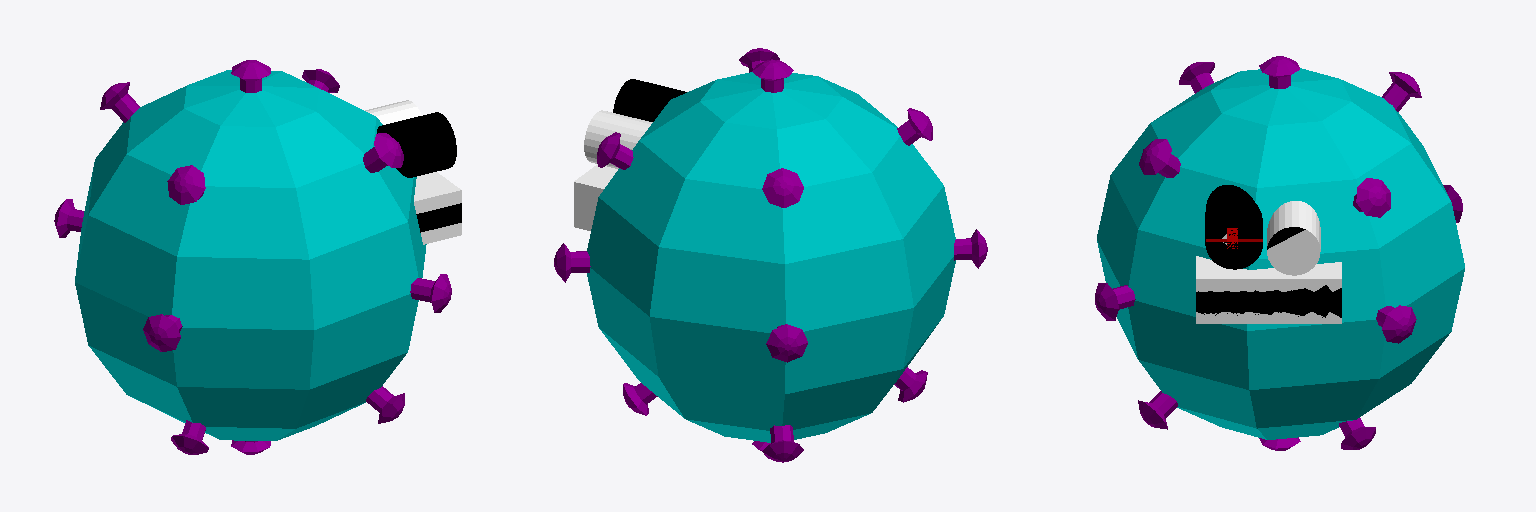
Rendered from sida.obj.
The picture shows the model from 3 angles: view 1: azimuth 30°, elevation 25°; view 2: azimuth 150°, elevation 25°; view 3: azimuth 270°, elevation 25°; orthographic projection.
Visible parts, largest first — view 1: Mesh2 Sphere cc70_6b14_fc25_aaa9_1 Model, Mesh17 Cyborg_Face1 Model, Mesh18 Cyborg_Face1 Model, Mesh15 Sphere cc70_6b14_fc25_aaa9_1 Model, Mesh7 Sphere cc70_6b14_fc25_aaa9_1 Model, Mesh9 Sphere cc70_6b14_fc25_aaa9_1 Model, Mesh4 Sphere cc70_6b14_fc25_aaa9_1 Model, Mesh8 Sphere cc70_6b14_fc25_aaa9_1 Model, Mesh10 Sphere cc70_6b14_fc25_aaa9_1 Model, Mesh3 Sphere cc70_6b14_fc25_aaa9_1 Model, Mesh14 Sphere cc70_6b14_fc25_aaa9_1 Model, Mesh16 Cyborg_Face1 Model (+2 smaller); view 2: Mesh2 Sphere cc70_6b14_fc25_aaa9_1 Model, Mesh17 Cyborg_Face1 Model, Mesh16 Cyborg_Face1 Model, Mesh18 Cyborg_Face1 Model, Mesh8 Sphere cc70_6b14_fc25_aaa9_1 Model, Mesh1 Sphere cc70_6b14_fc25_aaa9_1 Model, Mesh11 Sphere cc70_6b14_fc25_aaa9_1 Model, Mesh12 Sphere cc70_6b14_fc25_aaa9_1 Model, Mesh3 Sphere cc70_6b14_fc25_aaa9_1 Model, Mesh6 Sphere cc70_6b14_fc25_aaa9_1 Model, Mesh15 Sphere cc70_6b14_fc25_aaa9_1 Model, Mesh7 Sphere cc70_6b14_fc25_aaa9_1 Model (+2 smaller); view 3: Mesh2 Sphere cc70_6b14_fc25_aaa9_1 Model, Mesh18 Cyborg_Face1 Model, Mesh17 Cyborg_Face1 Model, Mesh16 Cyborg_Face1 Model, Mesh9 Sphere cc70_6b14_fc25_aaa9_1 Model, Mesh12 Sphere cc70_6b14_fc25_aaa9_1 Model, Mesh6 Sphere cc70_6b14_fc25_aaa9_1 Model, Mesh4 Sphere cc70_6b14_fc25_aaa9_1 Model, Mesh10 Sphere cc70_6b14_fc25_aaa9_1 Model, Mesh8 Sphere cc70_6b14_fc25_aaa9_1 Model, Mesh3 Sphere cc70_6b14_fc25_aaa9_1 Model, Mesh13 Sphere cc70_6b14_fc25_aaa9_1 Model (+1 smaller).
Boxes of the visible parts, box(x1,y1,x2,y2) form: Mesh2 Sphere cc70_6b14_fc25_aaa9_1 Model: box(75, 70, 426, 440); Mesh17 Cyborg_Face1 Model: box(377, 112, 456, 177); Mesh18 Cyborg_Face1 Model: box(414, 172, 461, 244); Mesh15 Sphere cc70_6b14_fc25_aaa9_1 Model: box(167, 165, 205, 204); Mesh7 Sphere cc70_6b14_fc25_aaa9_1 Model: box(143, 314, 182, 351); Mesh9 Sphere cc70_6b14_fc25_aaa9_1 Model: box(363, 133, 403, 172); Mesh4 Sphere cc70_6b14_fc25_aaa9_1 Model: box(410, 274, 451, 312); Mesh8 Sphere cc70_6b14_fc25_aaa9_1 Model: box(100, 82, 139, 122); Mesh10 Sphere cc70_6b14_fc25_aaa9_1 Model: box(366, 386, 404, 423); Mesh3 Sphere cc70_6b14_fc25_aaa9_1 Model: box(231, 60, 270, 92); Mesh14 Sphere cc70_6b14_fc25_aaa9_1 Model: box(171, 420, 208, 454); Mesh16 Cyborg_Face1 Model: box(365, 100, 421, 124); Mesh2 Sphere cc70_6b14_fc25_aaa9_1 Model: box(587, 72, 955, 442); Mesh17 Cyborg_Face1 Model: box(613, 79, 686, 121); Mesh16 Cyborg_Face1 Model: box(584, 110, 652, 168); Mesh18 Cyborg_Face1 Model: box(574, 164, 617, 230); Mesh8 Sphere cc70_6b14_fc25_aaa9_1 Model: box(762, 168, 803, 207); Mesh1 Sphere cc70_6b14_fc25_aaa9_1 Model: box(766, 324, 807, 362); Mesh11 Sphere cc70_6b14_fc25_aaa9_1 Model: box(762, 425, 803, 462); Mesh12 Sphere cc70_6b14_fc25_aaa9_1 Model: box(597, 132, 633, 169); Mesh3 Sphere cc70_6b14_fc25_aaa9_1 Model: box(752, 59, 793, 92); Mesh6 Sphere cc70_6b14_fc25_aaa9_1 Model: box(554, 243, 590, 282); Mesh15 Sphere cc70_6b14_fc25_aaa9_1 Model: box(897, 108, 932, 145); Mesh7 Sphere cc70_6b14_fc25_aaa9_1 Model: box(954, 229, 987, 268); Mesh2 Sphere cc70_6b14_fc25_aaa9_1 Model: box(1097, 68, 1464, 439); Mesh18 Cyborg_Face1 Model: box(1196, 256, 1341, 323); Mesh17 Cyborg_Face1 Model: box(1205, 185, 1262, 269); Mesh16 Cyborg_Face1 Model: box(1267, 201, 1320, 275); Mesh9 Sphere cc70_6b14_fc25_aaa9_1 Model: box(1139, 139, 1180, 177); Mesh12 Sphere cc70_6b14_fc25_aaa9_1 Model: box(1353, 178, 1390, 217); Mesh6 Sphere cc70_6b14_fc25_aaa9_1 Model: box(1376, 305, 1416, 343); Mesh4 Sphere cc70_6b14_fc25_aaa9_1 Model: box(1095, 283, 1135, 320); Mesh10 Sphere cc70_6b14_fc25_aaa9_1 Model: box(1138, 391, 1177, 429); Mesh8 Sphere cc70_6b14_fc25_aaa9_1 Model: box(1382, 72, 1421, 111); Mesh3 Sphere cc70_6b14_fc25_aaa9_1 Model: box(1259, 56, 1299, 88); Mesh13 Sphere cc70_6b14_fc25_aaa9_1 Model: box(1339, 418, 1375, 449).
Bounding box in the file's own units: 266 × 304 × 262.